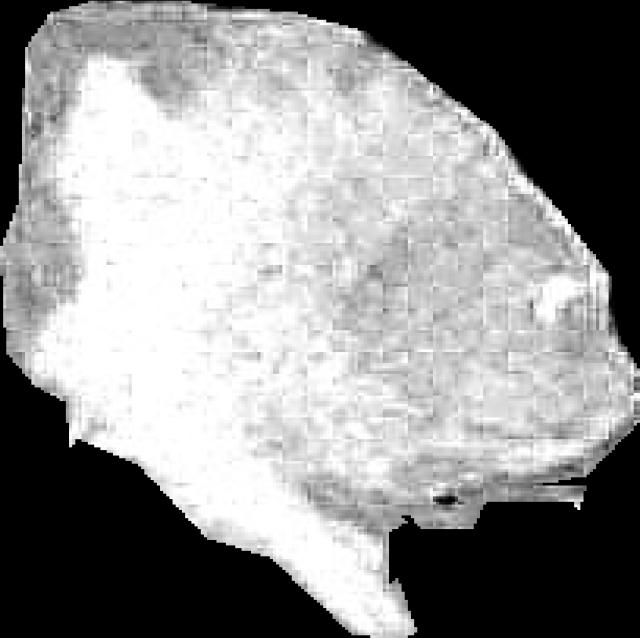tumor_moderate_chance: (0, 1, 640, 638)
